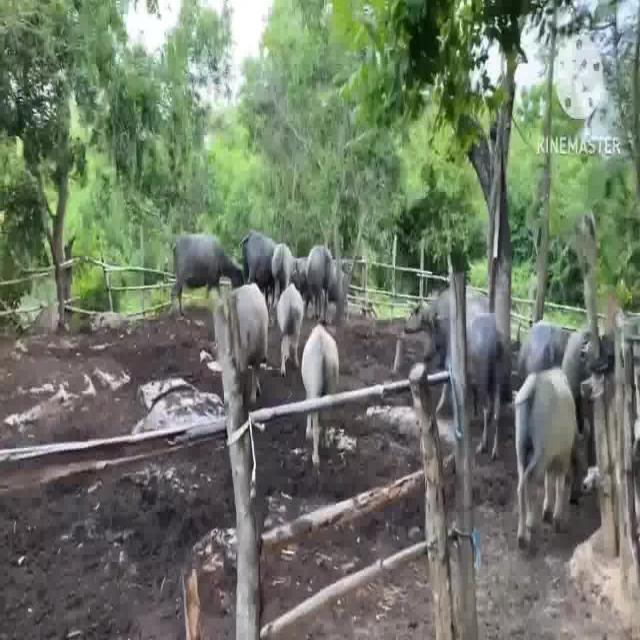buffalo: (508, 368, 576, 538), (170, 220, 238, 305), (464, 288, 506, 422), (299, 317, 343, 443), (304, 240, 334, 311), (264, 242, 300, 295)
